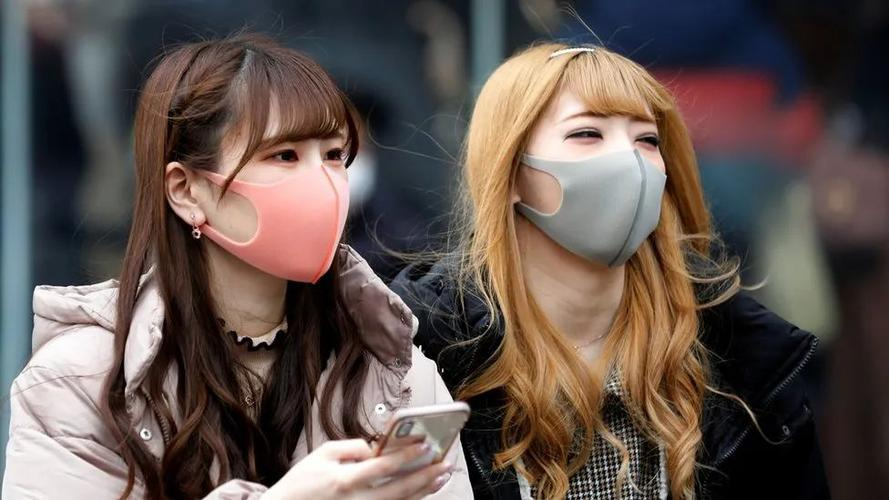mask: (202, 67, 357, 284), (528, 64, 675, 268)
